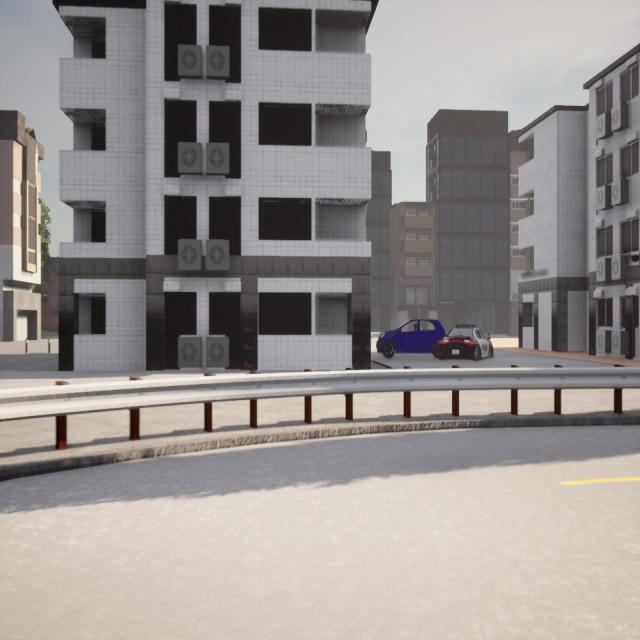Vehicle: (377, 318, 445, 358), (436, 324, 494, 362)
